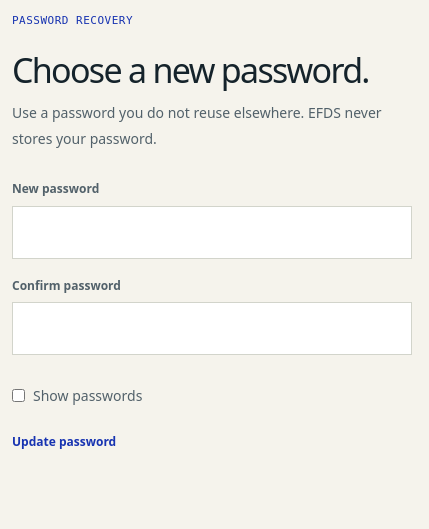
it: password reset feedback › says clearly when Supabase rejects the password change
Type "a-new-password-123" into the password field labelled "New password" at coordinates (212, 232), box [12,206,412,259]
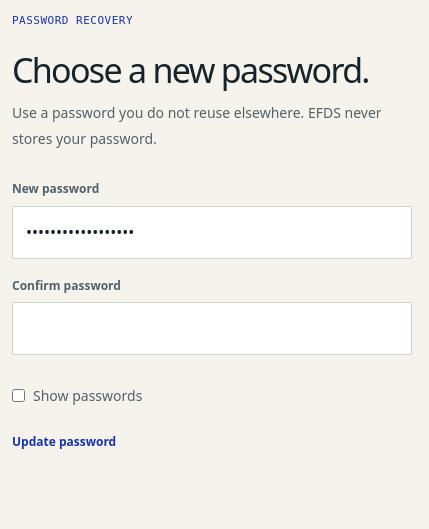
Type "a-new-password-123" into the password field labelled "Confirm password" at coordinates (212, 329), box [12,302,412,355]
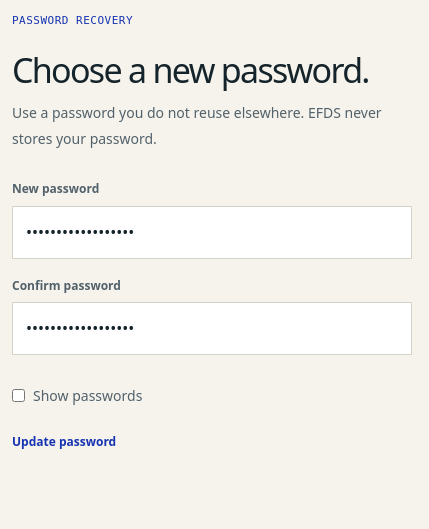
Click the button "Update password" at coordinates (64, 442), box [12,420,116,464]
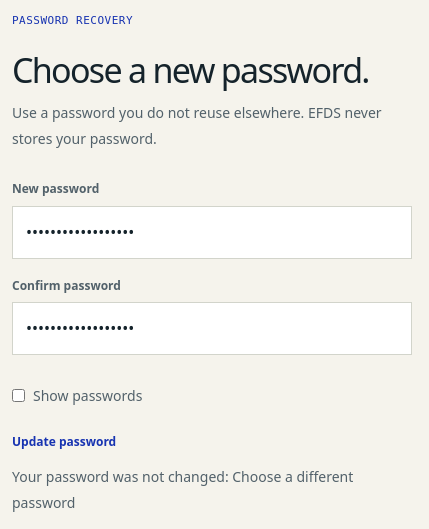
expect the message reads "Your password was not changed: Choose a different password": met, box [12,467,353,512]
